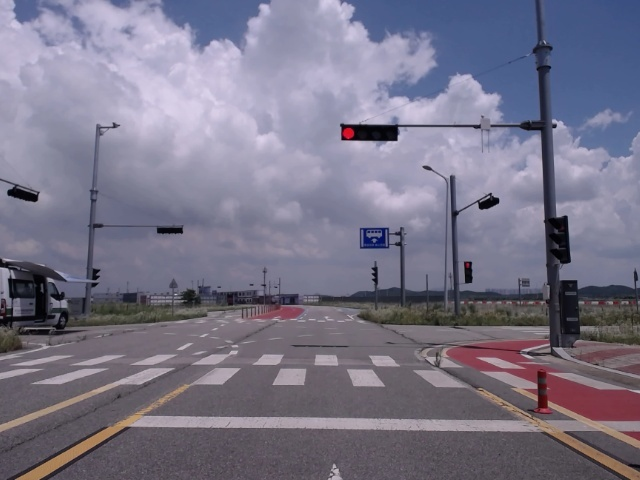red_4: (341, 126, 398, 141)
